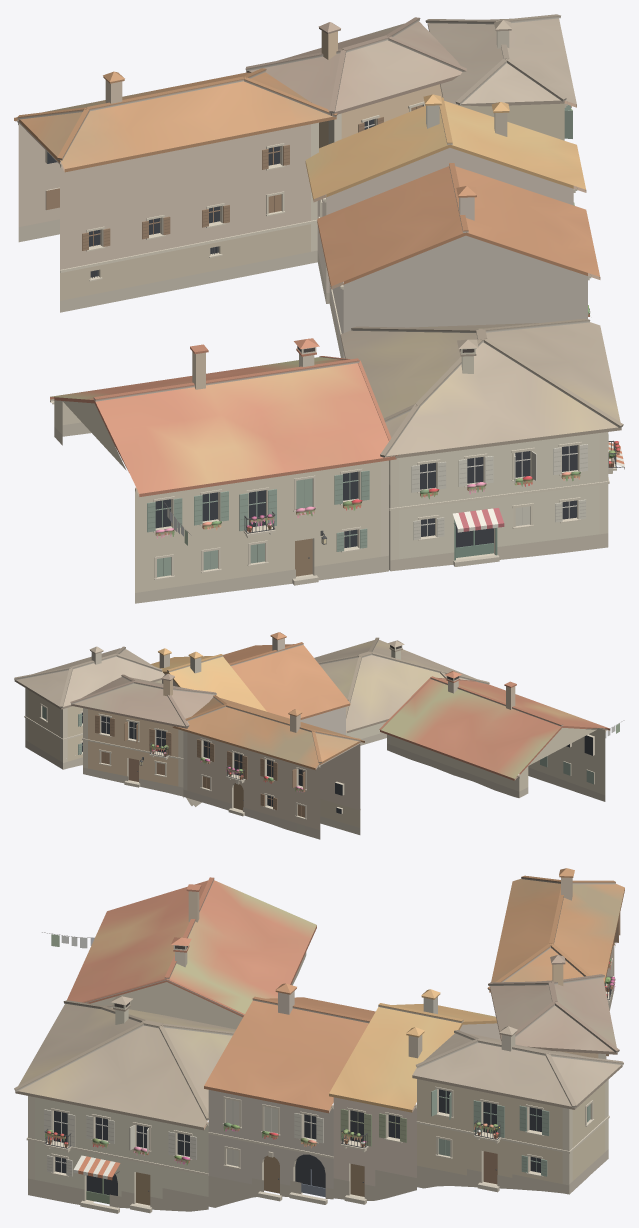
File: SM_BM_BT_blk_21.glb
The picture shows the model from 3 angles, top to bottom: view 1: azimuth 30°, elevation 25°; view 2: azimuth 150°, elevation 25°; view 3: azimuth 270°, elevation 25°; orthographic projection. The views are drawn at different scales.
Visible parts, largest first — view 1: SM_BM_BT_blk_21; view 2: SM_BM_BT_blk_21; view 3: SM_BM_BT_blk_21.
Part boxes in pixels (left/top/right/bottom): SM_BM_BT_blk_21: left=14, top=14, right=624, bottom=603; SM_BM_BT_blk_21: left=14, top=632, right=624, bottom=839; SM_BM_BT_blk_21: left=14, top=868, right=624, bottom=1213.
Size of the model in its own units: 44.94 by 18.19 by 39.89.
